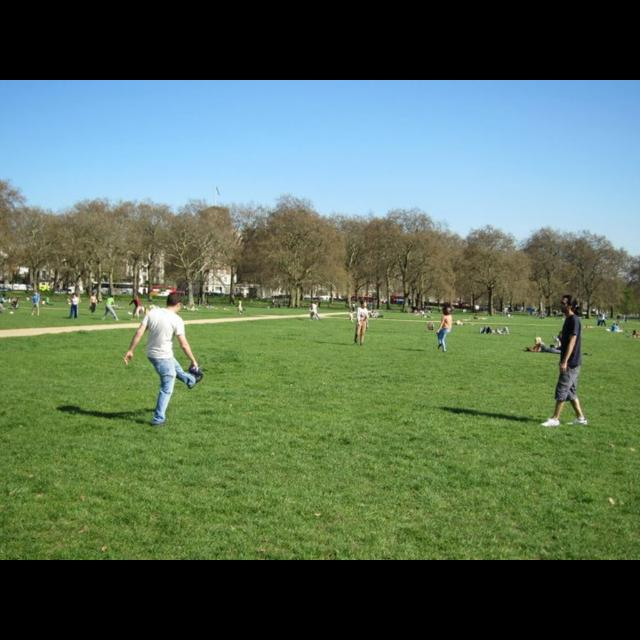Football: (427, 322, 433, 330)
